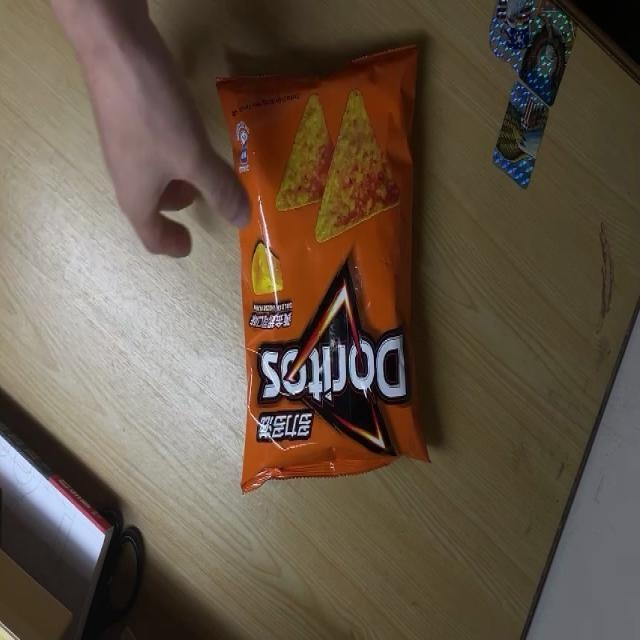Doritos: (216, 42, 430, 494)
